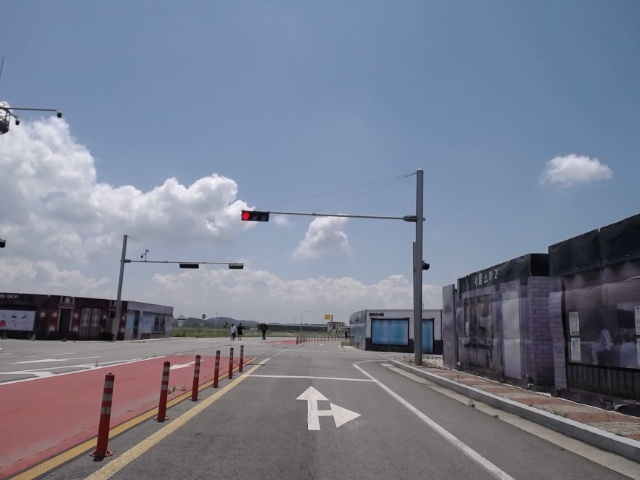red_3: (241, 209, 270, 223)
